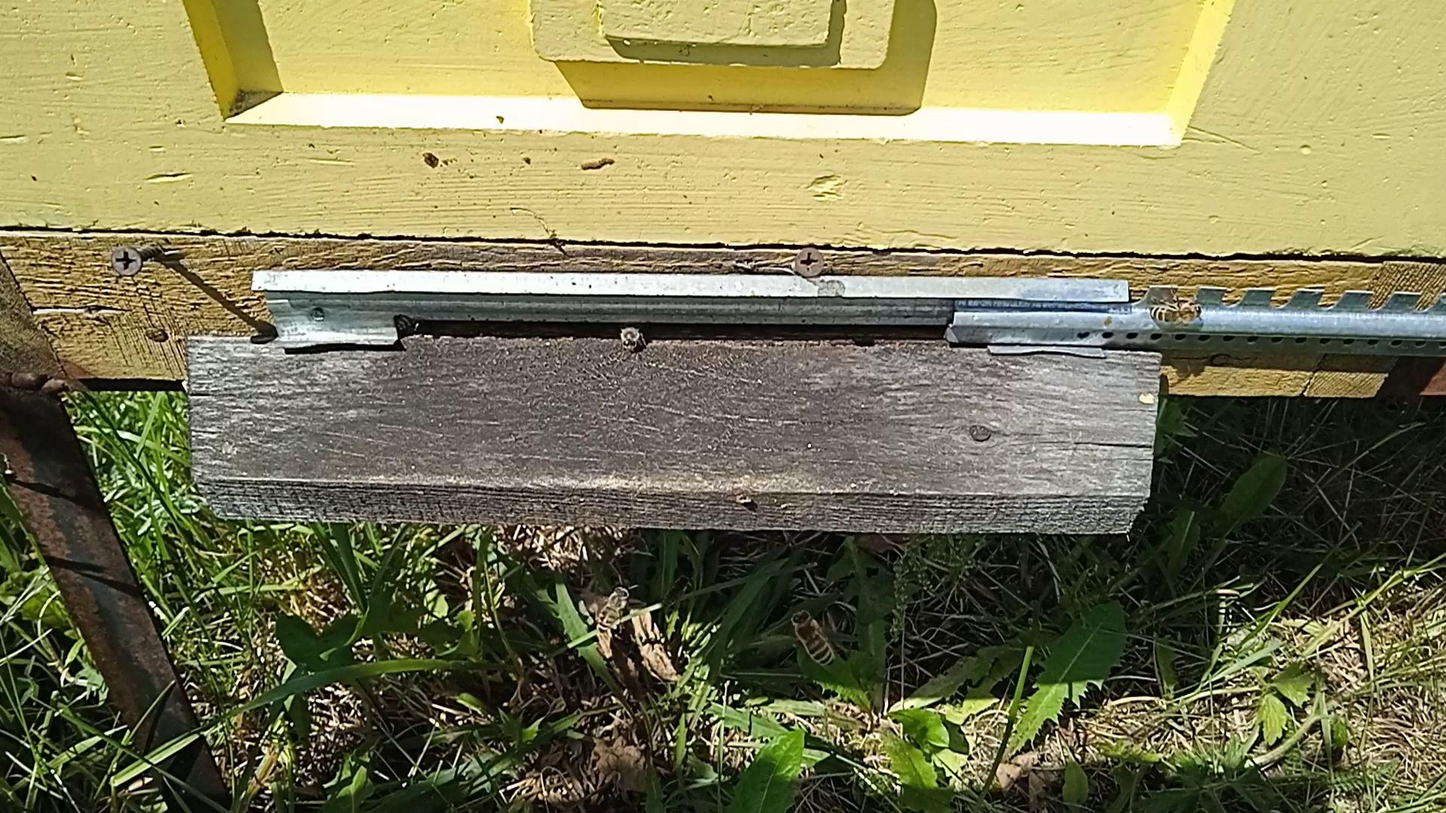worker-bee: (790, 607, 837, 667), (595, 584, 632, 636), (1148, 298, 1205, 329), (616, 322, 648, 353), (398, 316, 421, 331)
